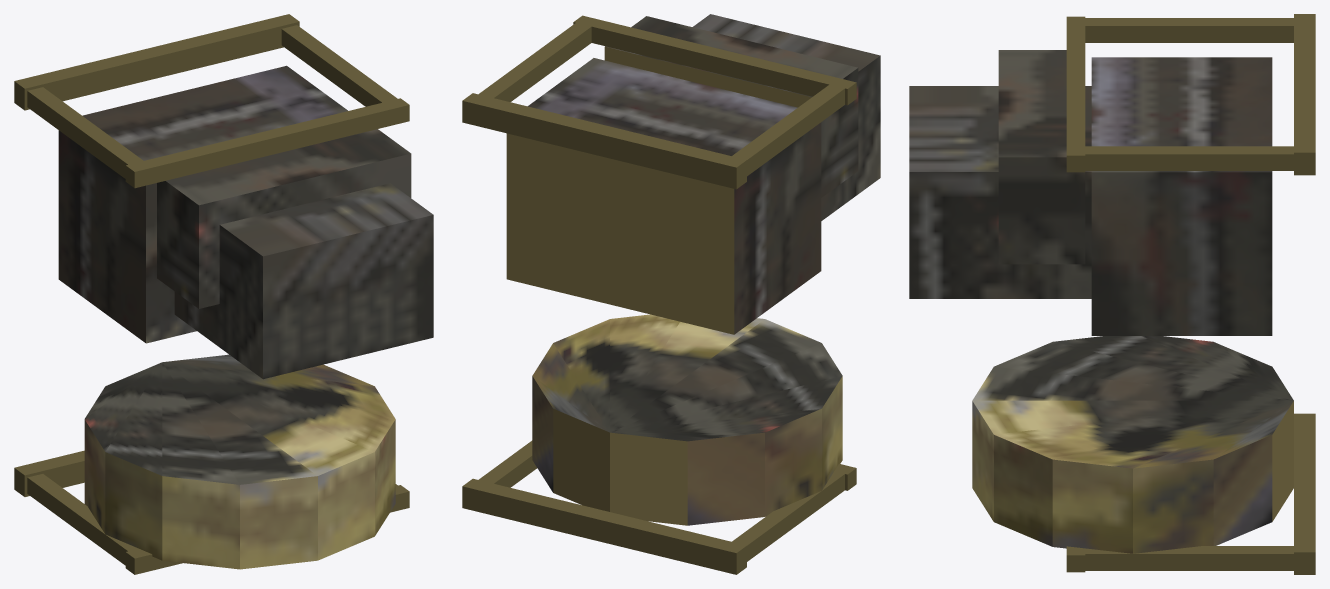
File: pz_g023_appliances_misc_01_old_generator.obj
3 views of the same model, side by side, from view 1: azimuth 30°, elevation 25°; view 2: azimuth 150°, elevation 25°; view 3: azimuth 270°, elevation 25° (orthographic). The views are drawn at different scales.
Visible parts, largest first — view 1: round_alternator_cap0, round_alternator_side, upper_cylinder_top, engine_block_right, engine_block_front, upper_cylinder_front, fuel_tank_top, fuel_tank_front, upper_cylinder_right, skid_long_top, open_frame_top_top, open_frame_upright_right (+5 smaller); view 2: engine_block_bottom, round_alternator_cap0, round_alternator_side, engine_block_front, engine_block_right, skid_long_bottom, skid_long_front, open_frame_upright_right, open_frame_upright_front, open_frame_top_bottom, upper_cylinder_right, fuel_tank_front (+4 smaller); view 3: round_alternator_cap0, engine_block_left, round_alternator_side, engine_block_front, upper_cylinder_left, open_frame_upright_left, fuel_tank_left, upper_cylinder_front, fuel_tank_front, skid_long_front, open_frame_upright_front, open_frame_top_front (+2 smaller).
Boxes of the visible parts, x1,y1,x2,y2 form: round_alternator_cap0: [84, 354, 395, 484]; round_alternator_side: [84, 419, 395, 569]; upper_cylinder_top: [263, 215, 433, 379]; engine_block_right: [58, 130, 145, 342]; engine_block_front: [82, 65, 347, 160]; upper_cylinder_front: [220, 183, 433, 256]; fuel_tank_top: [199, 153, 411, 308]; fuel_tank_front: [166, 129, 410, 205]; upper_cylinder_right: [174, 225, 262, 378]; skid_long_top: [24, 22, 299, 496]; open_frame_top_top: [134, 105, 409, 574]; open_frame_upright_right: [27, 29, 381, 565]; engine_block_bottom: [506, 133, 734, 334]; round_alternator_cap0: [532, 314, 842, 441]; round_alternator_side: [532, 376, 842, 525]; engine_block_front: [528, 58, 797, 155]; engine_block_right: [734, 122, 821, 334]; skid_long_bottom: [462, 101, 736, 574]; skid_long_front: [462, 93, 746, 552]; open_frame_upright_right: [494, 27, 844, 561]; open_frame_upright_front: [478, 23, 844, 545]; open_frame_top_bottom: [573, 22, 847, 490]; upper_cylinder_right: [821, 56, 880, 220]; fuel_tank_front: [605, 16, 857, 96]; round_alternator_cap0: [972, 336, 1293, 468]; engine_block_left: [1091, 172, 1272, 335]; round_alternator_side: [972, 401, 1293, 553]; engine_block_front: [1091, 57, 1272, 172]; upper_cylinder_left: [909, 172, 1091, 298]; open_frame_upright_left: [1085, 26, 1293, 570]; fuel_tank_left: [998, 157, 1085, 264]; upper_cylinder_front: [909, 86, 1091, 171]; fuel_tank_front: [998, 50, 1066, 157]; skid_long_front: [1294, 14, 1315, 552]; open_frame_upright_front: [1085, 18, 1293, 553]; open_frame_top_front: [1066, 16, 1085, 555].
Bounding box in the file's own units: 0.5273 × 0.7484 × 0.653.
1 material, 1 textured.
